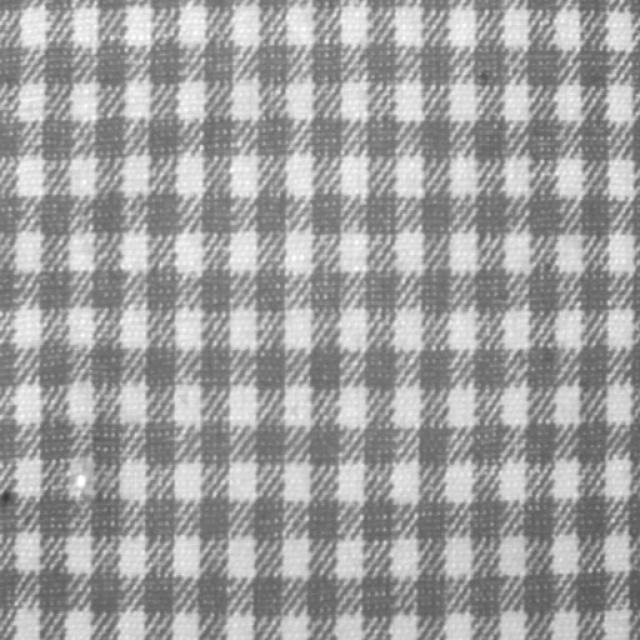Hole-Defect: (72, 474, 86, 492)
